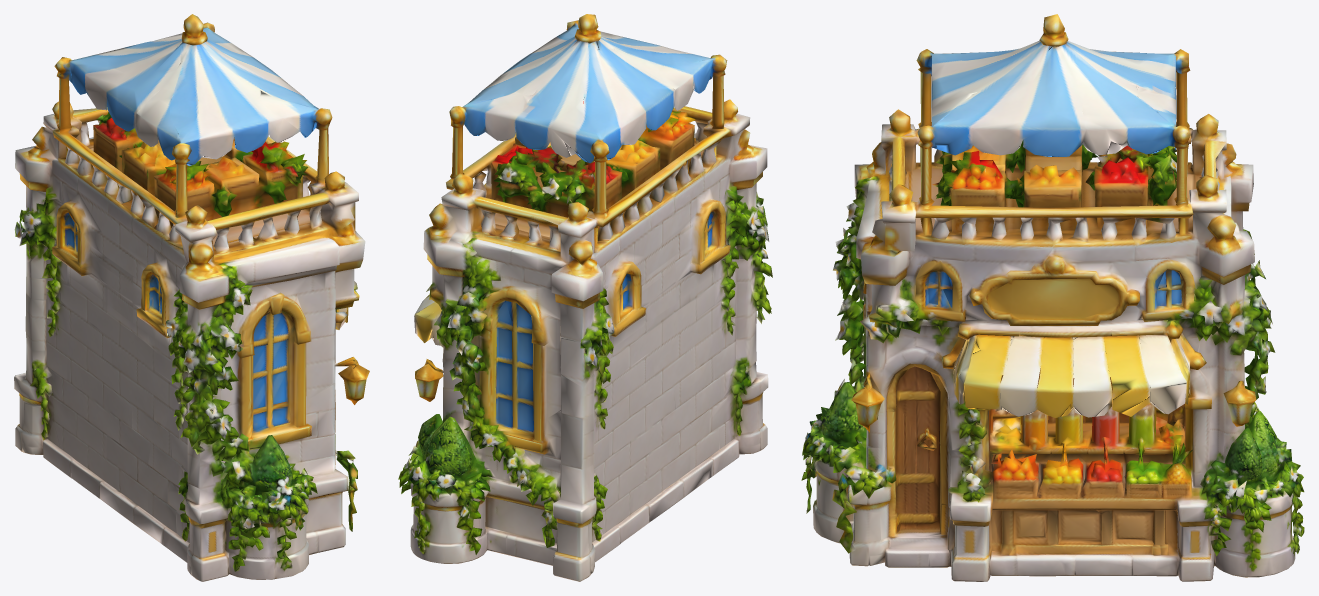
File: HaloShop_Juice_HD_src.glb
3 views of the same model, side by side, from view 1: azimuth 30°, elevation 25°; view 2: azimuth 150°, elevation 25°; view 3: azimuth 270°, elevation 25° (orthographic). The views are drawn at different scales.
Visible parts, largest first — view 1: tripo_node_f475ba83-7521-47b2-b550-c87a79e96a96; view 2: tripo_node_f475ba83-7521-47b2-b550-c87a79e96a96; view 3: tripo_node_f475ba83-7521-47b2-b550-c87a79e96a96.
Part boxes in pixels (x1=…): tripo_node_f475ba83-7521-47b2-b550-c87a79e96a96: x1=14, y1=14, x2=369, y2=581; tripo_node_f475ba83-7521-47b2-b550-c87a79e96a96: x1=398, y1=14, x2=772, y2=581; tripo_node_f475ba83-7521-47b2-b550-c87a79e96a96: x1=801, y1=14, x2=1304, y2=581.
Size of the model in its own units: 0.4858 by 0.9814 by 0.8584.
Materials: 1 (1 with a texture image).
